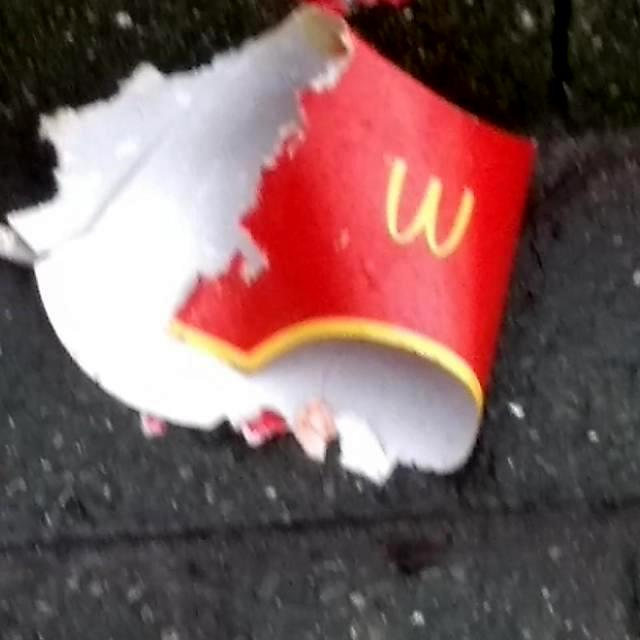Paper: (0, 3, 540, 488)
